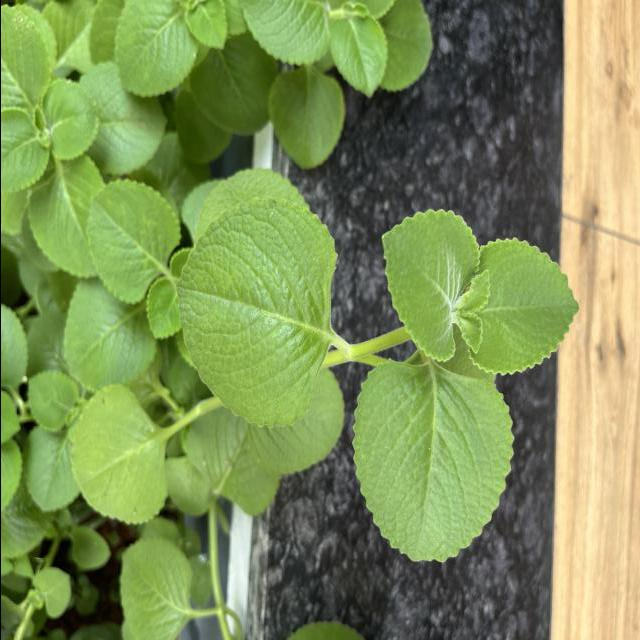Plectranthus barbatus: (173, 194, 338, 429), (350, 360, 516, 565), (380, 207, 480, 363), (470, 236, 580, 377), (68, 382, 169, 526), (85, 178, 182, 306), (62, 274, 158, 388), (26, 153, 106, 278), (266, 66, 346, 172), (113, 0, 199, 98), (116, 534, 194, 638), (40, 77, 100, 161)
